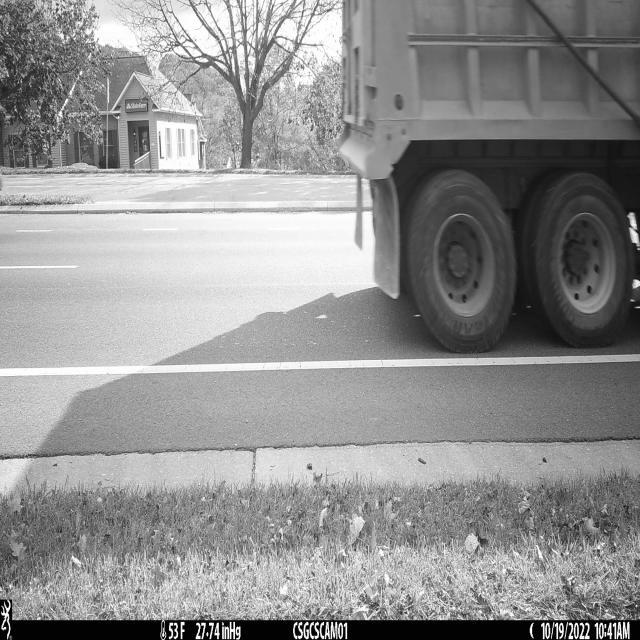Box Truck: (338, 0, 640, 355)
